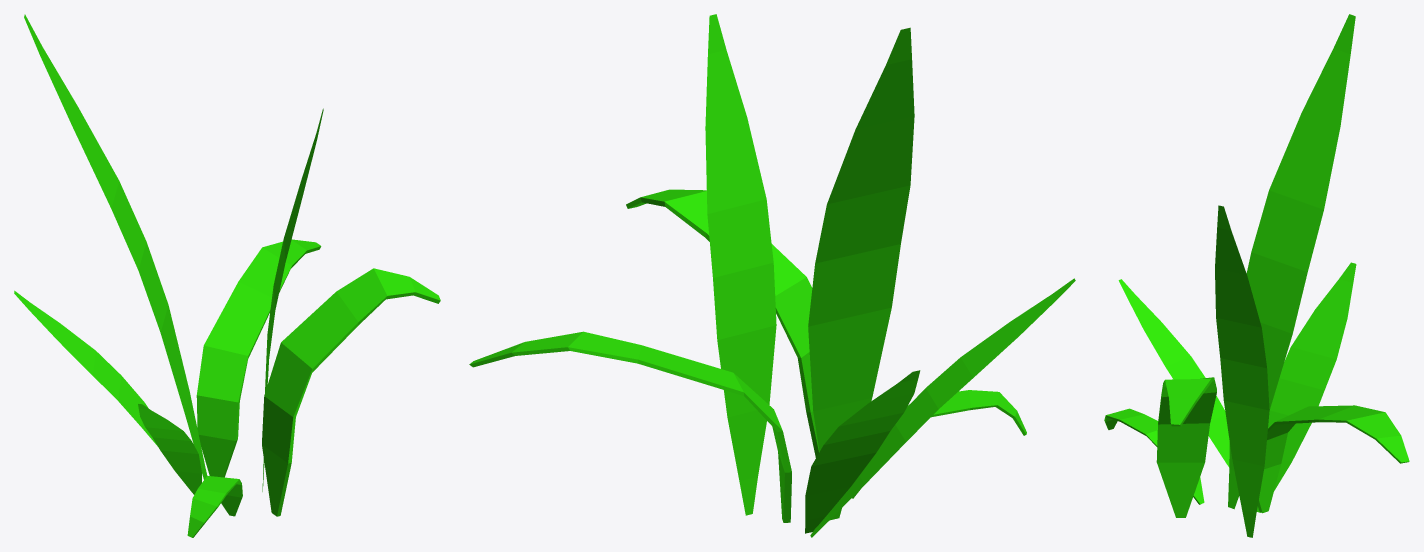
Rendered from Grass.fbx.
The picture shows the model from 3 angles, left to right: view 1: azimuth 30°, elevation 25°; view 2: azimuth 150°, elevation 25°; view 3: azimuth 270°, elevation 25°; orthographic projection. The views are drawn at different scales.
Visible parts, largest first — view 1: Curved Leaf; view 2: Curved Leaf; view 3: Curved Leaf.
Part boxes in pixels (<box>): Curved Leaf: <box>14,14,440,537</box>; Curved Leaf: <box>469,14,1075,537</box>; Curved Leaf: <box>1104,14,1409,537</box>.
Bounding box in the file's own units: 428 × 583 × 366.
